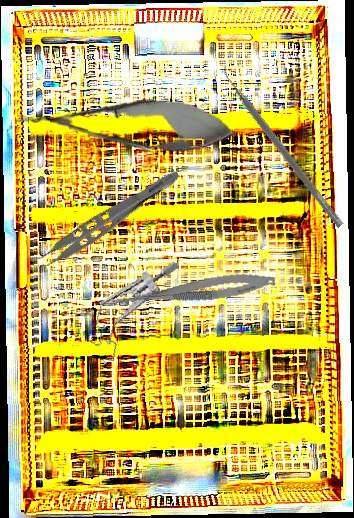Micro Scissor: (15, 91, 237, 158), (102, 267, 277, 318)
Spatula Surgical: (216, 62, 351, 229)
Speculum: (84, 246, 180, 376)
Tissue Forceps: (26, 157, 183, 279)
